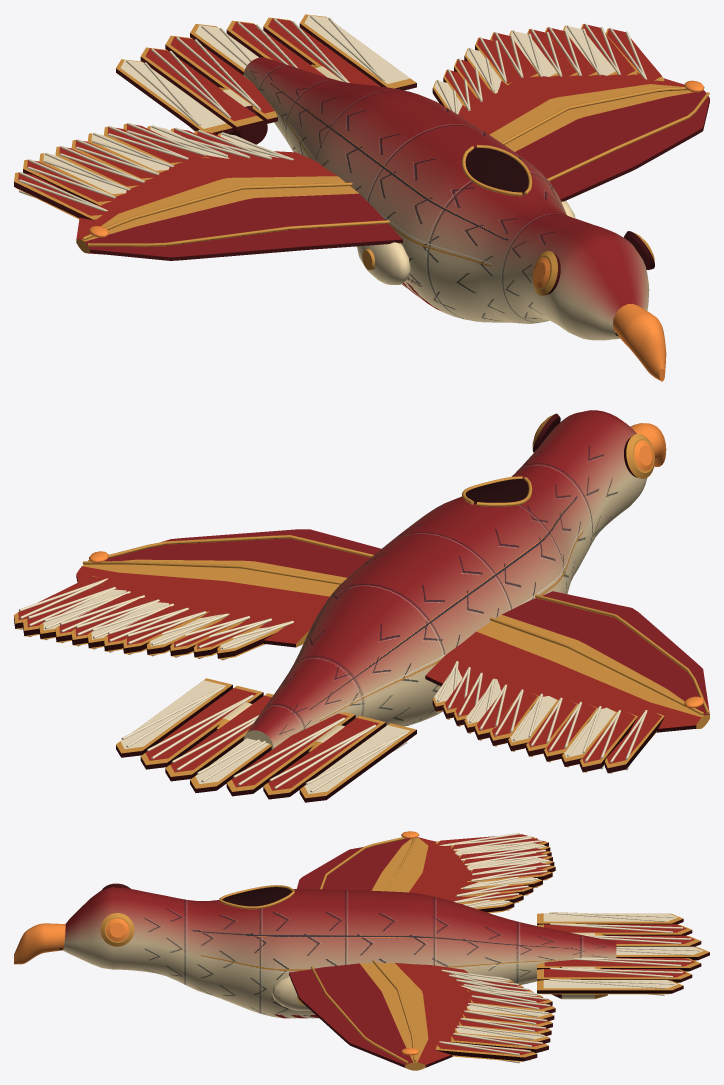
3 views of the same model, one above another, from view 1: azimuth 30°, elevation 25°; view 2: azimuth 150°, elevation 25°; view 3: azimuth 270°, elevation 25° (orthographic). The views are drawn at different scales.
Parts seen in each view (by area): view 1: oxpecker_hull; view 2: oxpecker_hull; view 3: oxpecker_hull.
Part boxes in pixels (x1,y1,x2,y2): oxpecker_hull: (14, 14, 709, 381); oxpecker_hull: (14, 410, 709, 802); oxpecker_hull: (14, 831, 709, 1070).
Size of the model in its own units: 12.31 by 3.09 by 16.
Materials: 1 (1 with a texture image).
